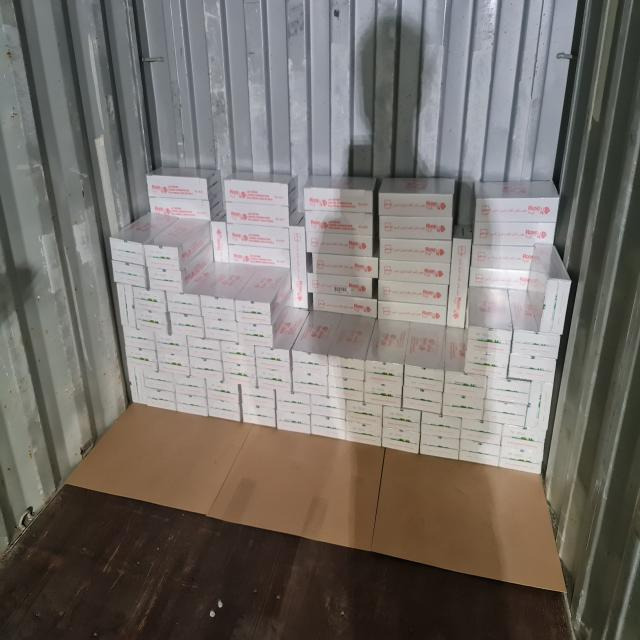Carton: (110, 166, 569, 478), (203, 262, 291, 304), (110, 211, 178, 245), (291, 311, 342, 356), (145, 217, 208, 249), (469, 286, 512, 330), (475, 179, 560, 199), (184, 260, 229, 296)
